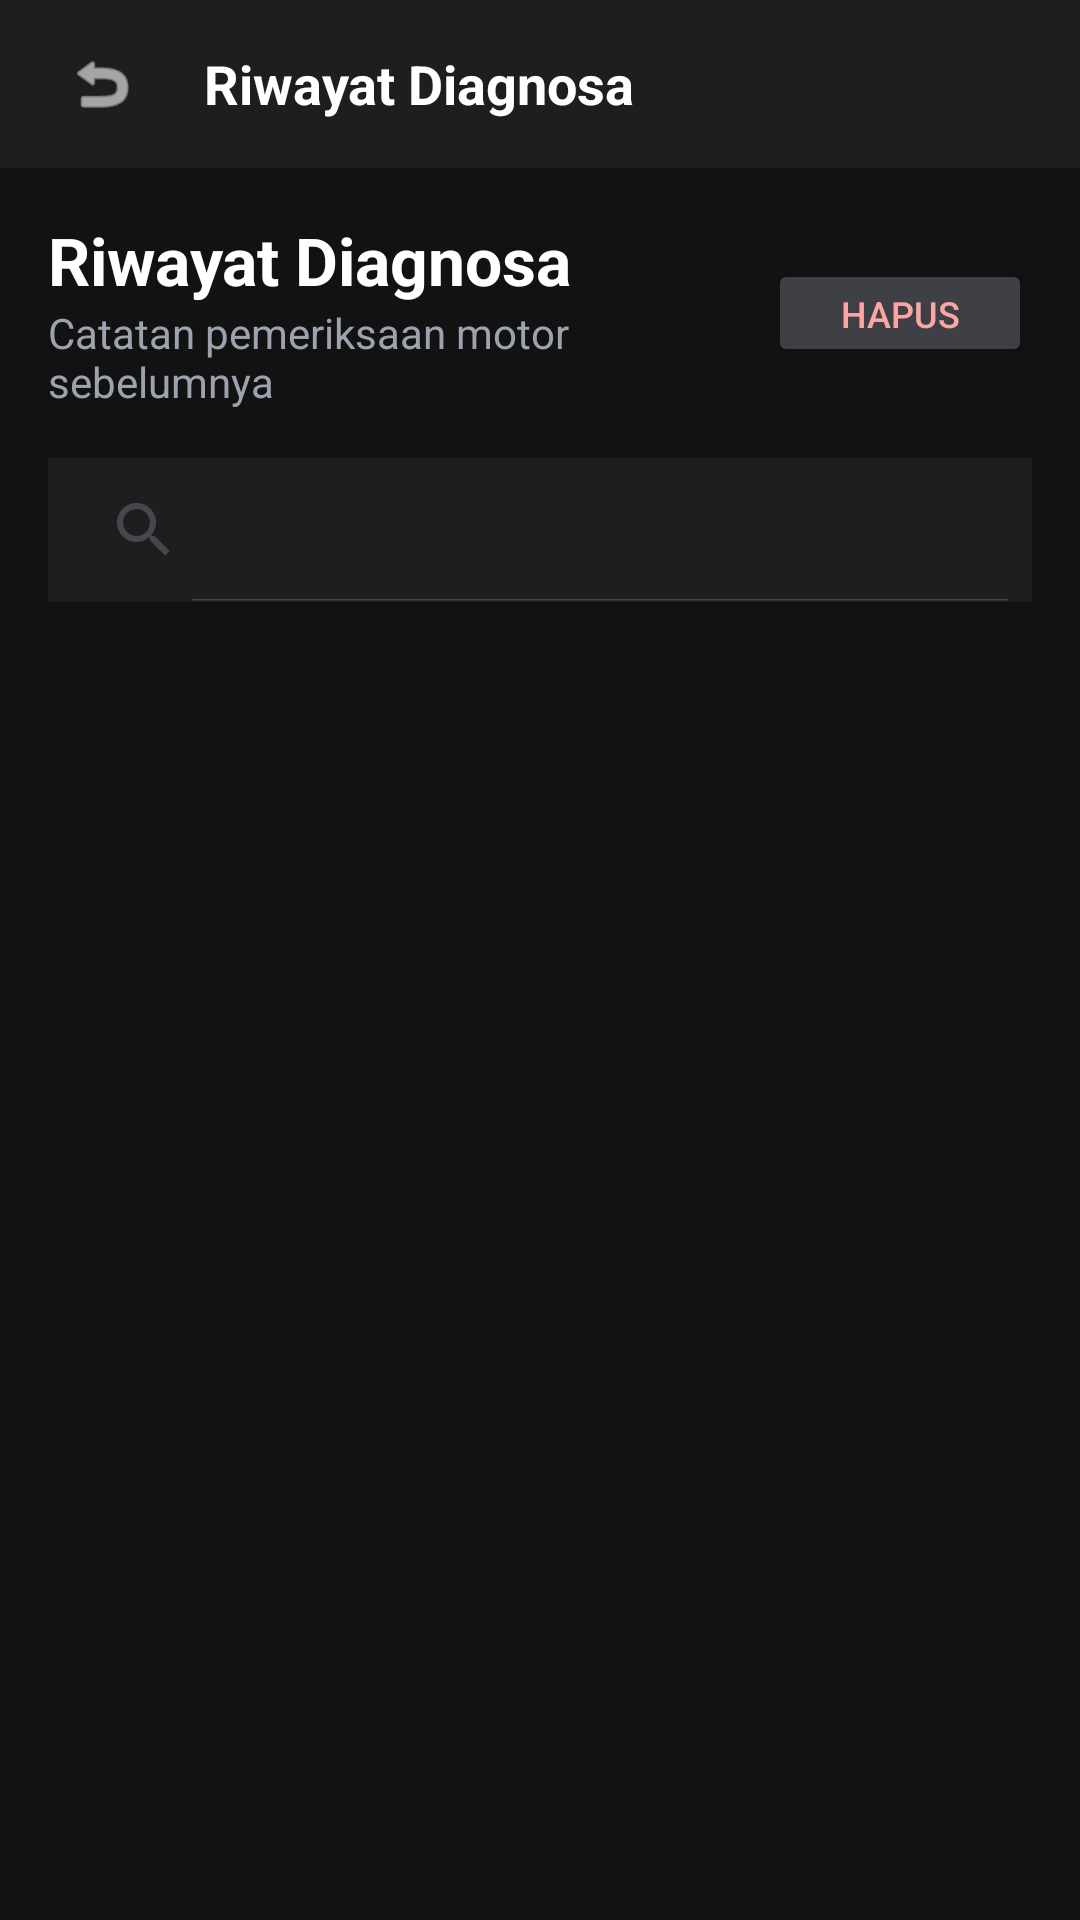

Where to tap for icons on this 1080px x 1920px app screen, as (x=x, y=y):
Kembali: (x=103, y=84)
